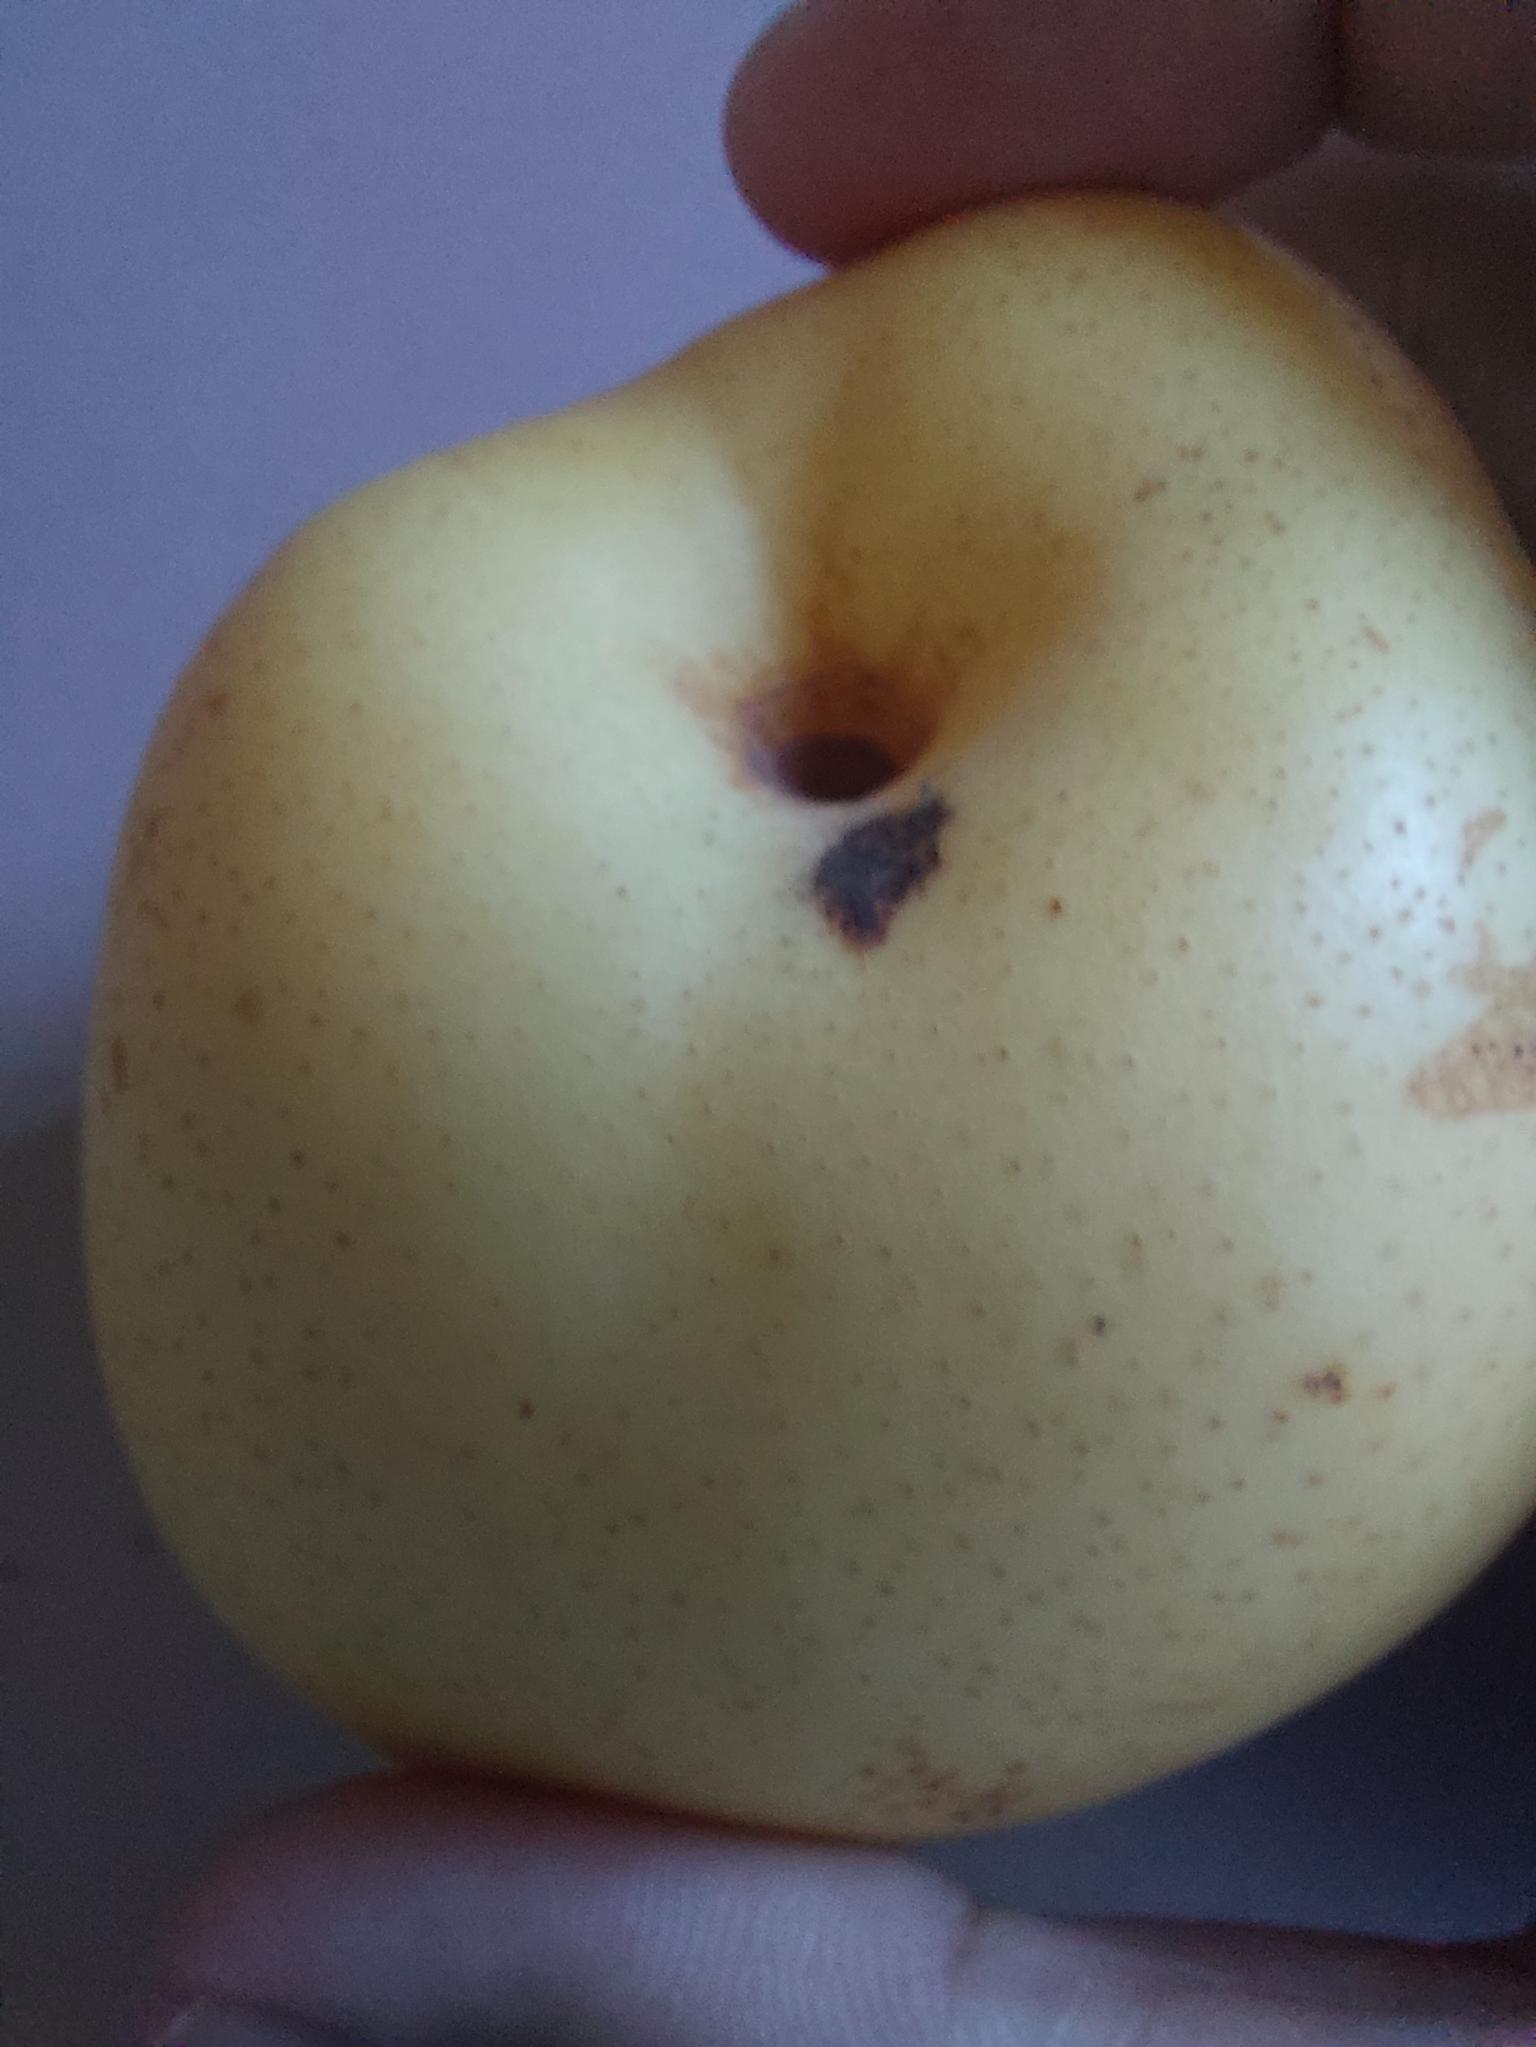Good Pear: (68, 144, 1536, 1850)
